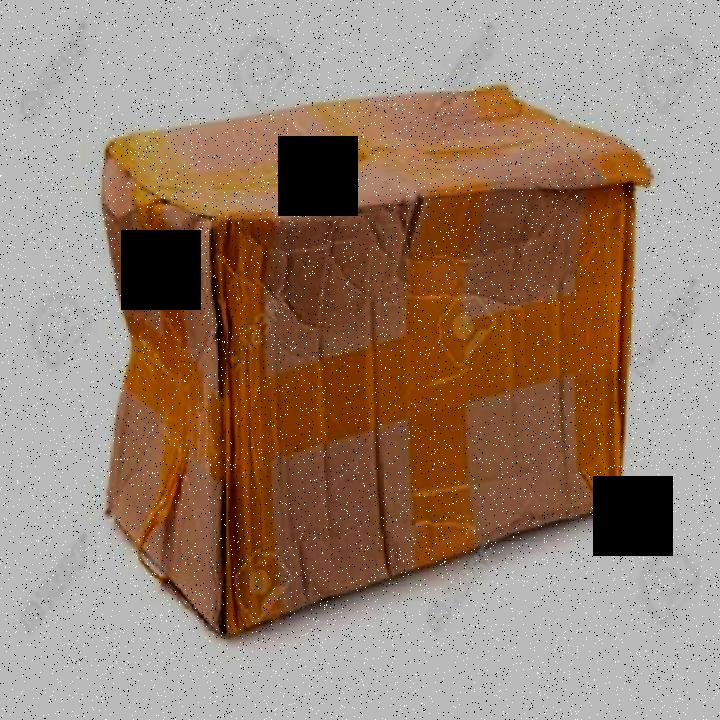box: (88, 90, 651, 633)
